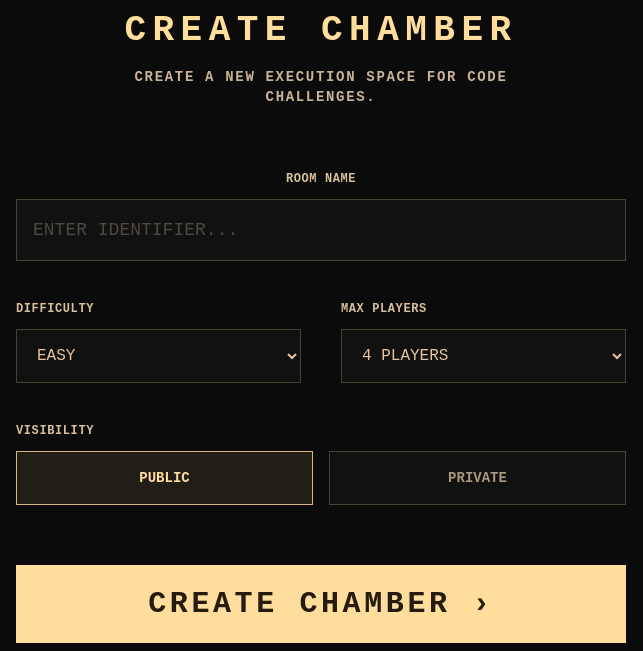
it: CreateRoom - submission › shows the initializing state and disables the button while awaiting the ack
The image size is (643, 651).
Type "My Room" into the field with placeholder "ENTER IDENTIFIER..." at (321, 230), box [16,199,626,261]
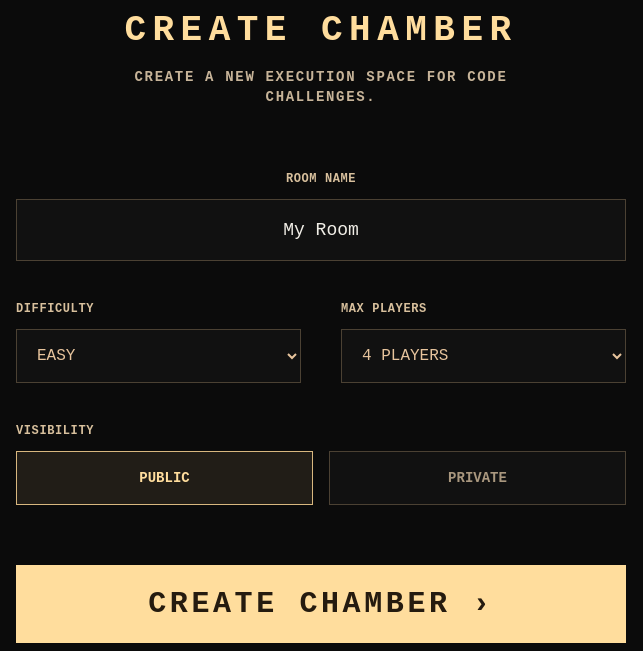
Click the button "CREATE CHAMBER ›" at (321, 604), box [16,565,626,643]
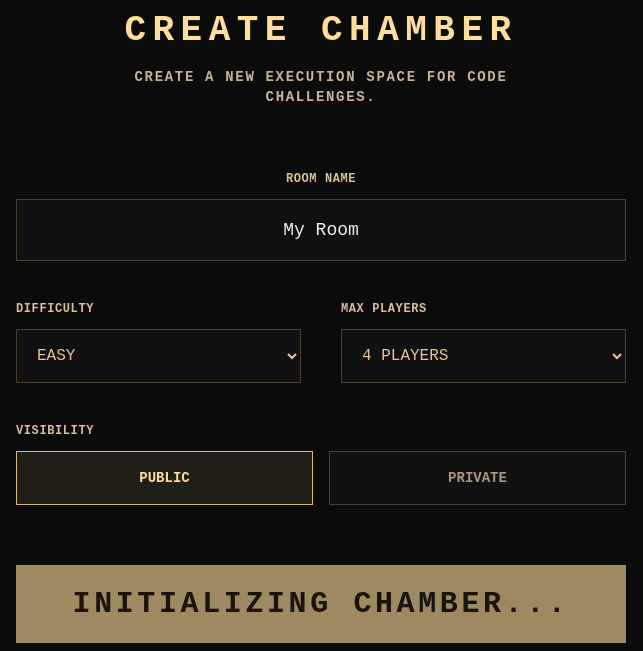
Check: the button "INITIALIZING CHAMBER..." is disabled, box [16,565,626,643]
